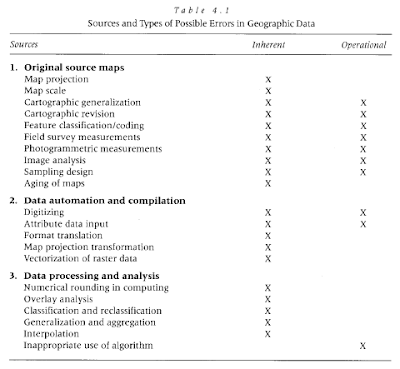fracking table: (6, 5, 394, 363)
